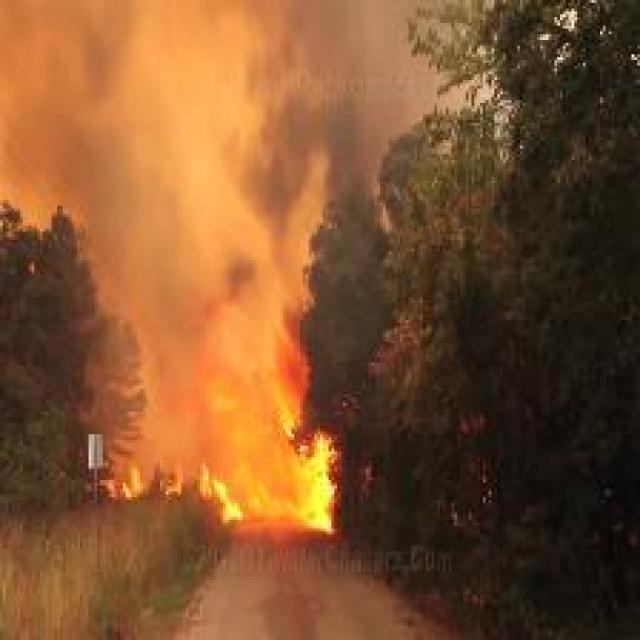Fire: (163, 304, 340, 533), (198, 463, 248, 523), (122, 462, 152, 498)
